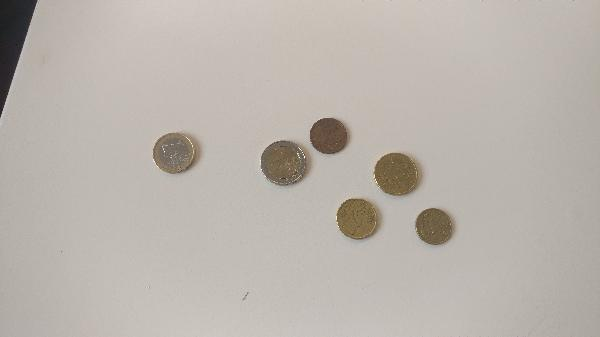Fifty Cent: (376, 153, 418, 196)
Five Cent: (309, 117, 350, 154)
One Euro: (150, 132, 198, 174)
Ten Cent: (417, 209, 453, 247)
Twenty Cent: (336, 197, 379, 237)
Two Euro: (258, 140, 309, 183)
